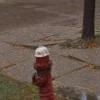Hydrant: (25, 36, 62, 100)
